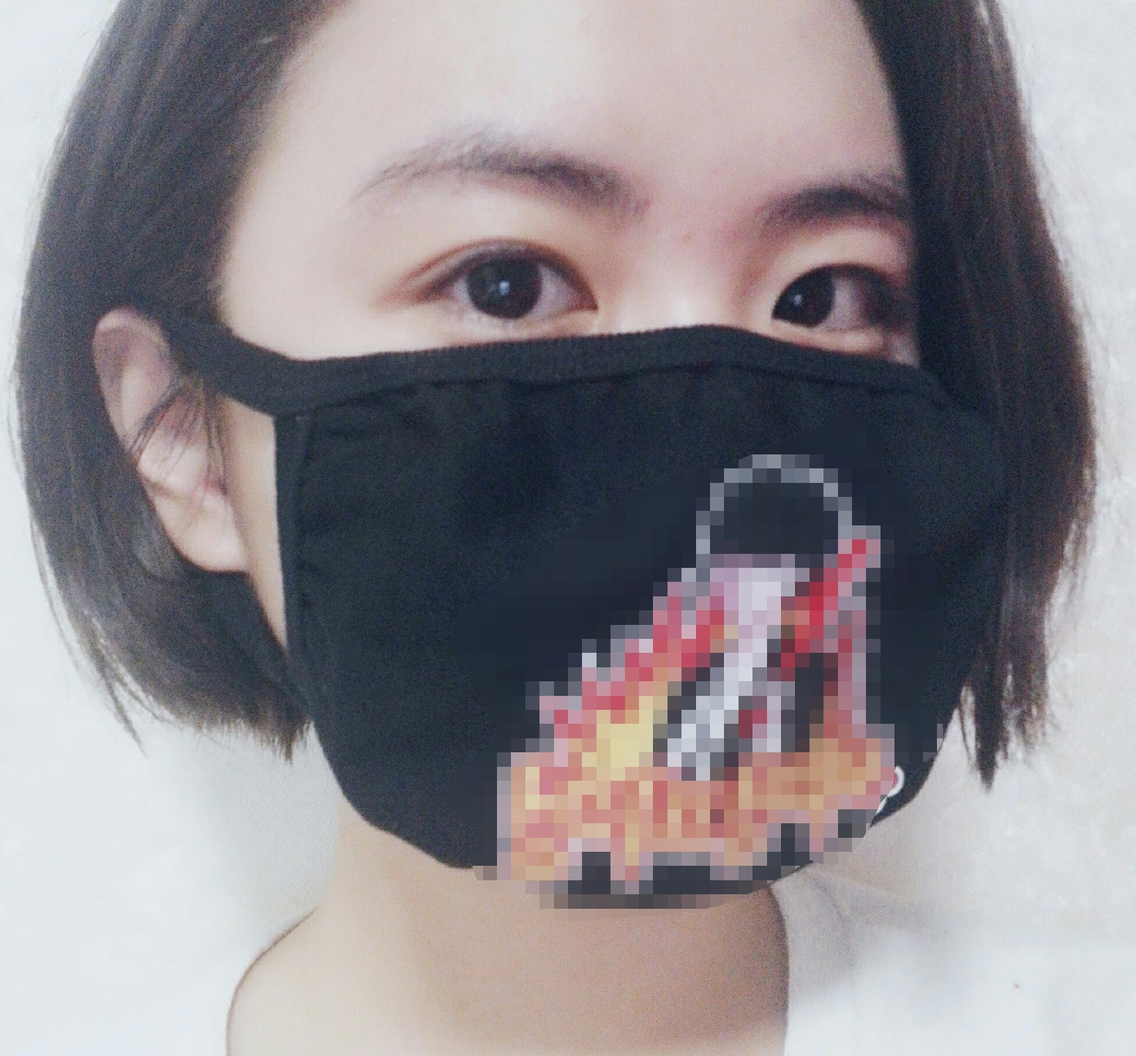OK: (186, 54, 1017, 886)
